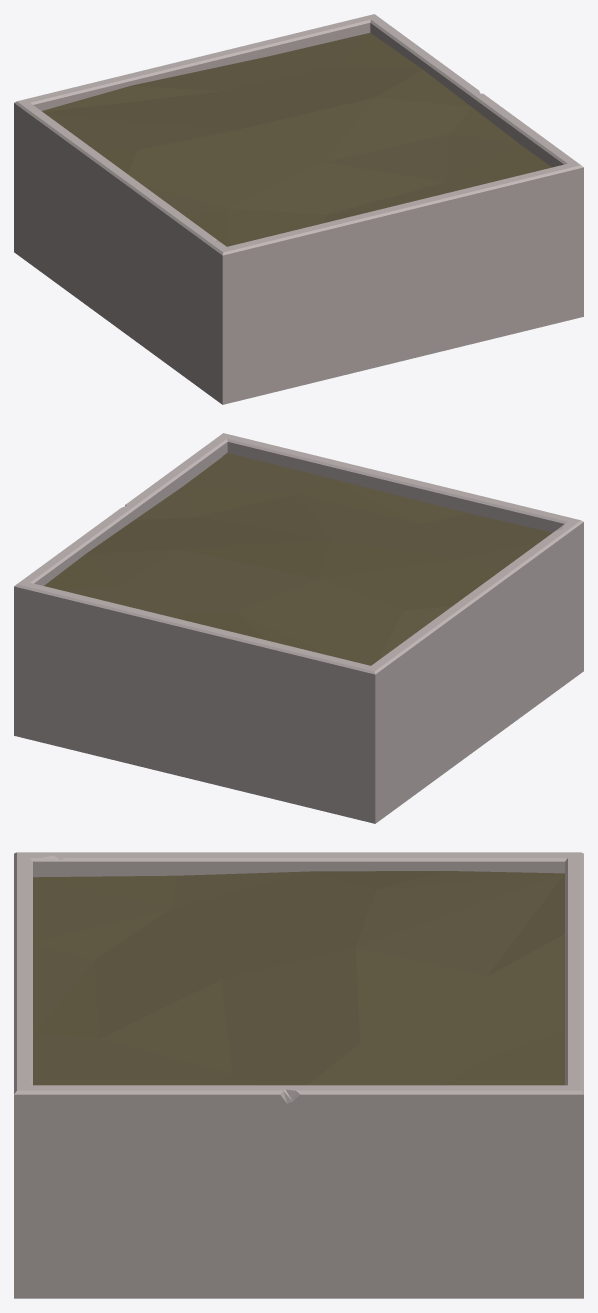
File: greek_garden_1.fbx
3 renders of one model, top to bottom at view 1: azimuth 30°, elevation 25°; view 2: azimuth 150°, elevation 25°; view 3: azimuth 270°, elevation 25°, orthographic. The views are drawn at different scales.
Parts seen in each view (by area): view 1: Cube.034, Cube.035; view 2: Cube.034, Cube.035; view 3: Cube.034, Cube.035.
Part boxes in pixels (x1,y1,x2,y2): Cube.034: (14,14,583,404); Cube.035: (42,33,551,246); Cube.034: (14,433,583,823); Cube.035: (44,453,552,665); Cube.034: (14,852,583,1298); Cube.035: (33,871,564,1085).
Bounding box in the file's own units: 300 × 120 × 300.
